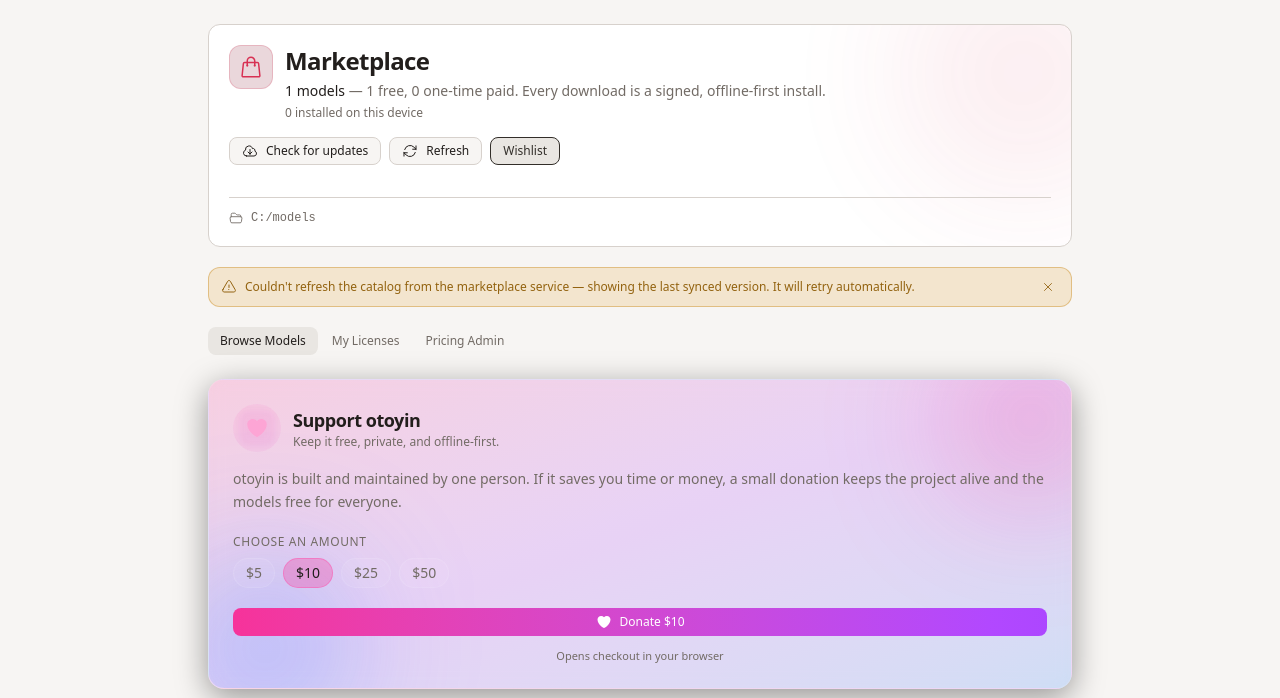
it: StorePage refresh-failure hint › shows the dismissible hint when the Store-open nudge reports a failed refresh
Expected: the text "showing the last synced version" is shown, [245, 278, 915, 295]
Click the button named "Dismiss".
click(1048, 287)  # box [1037, 276, 1059, 298]
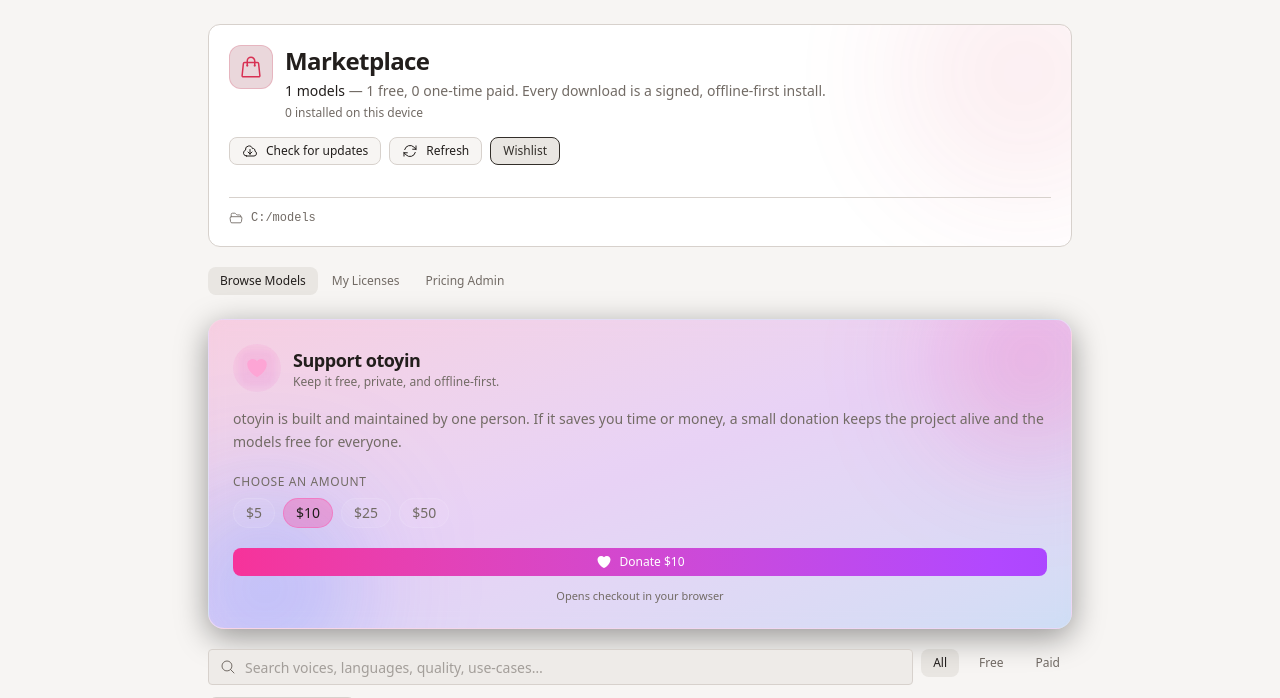
Now the text "showing the last synced version" is gone
